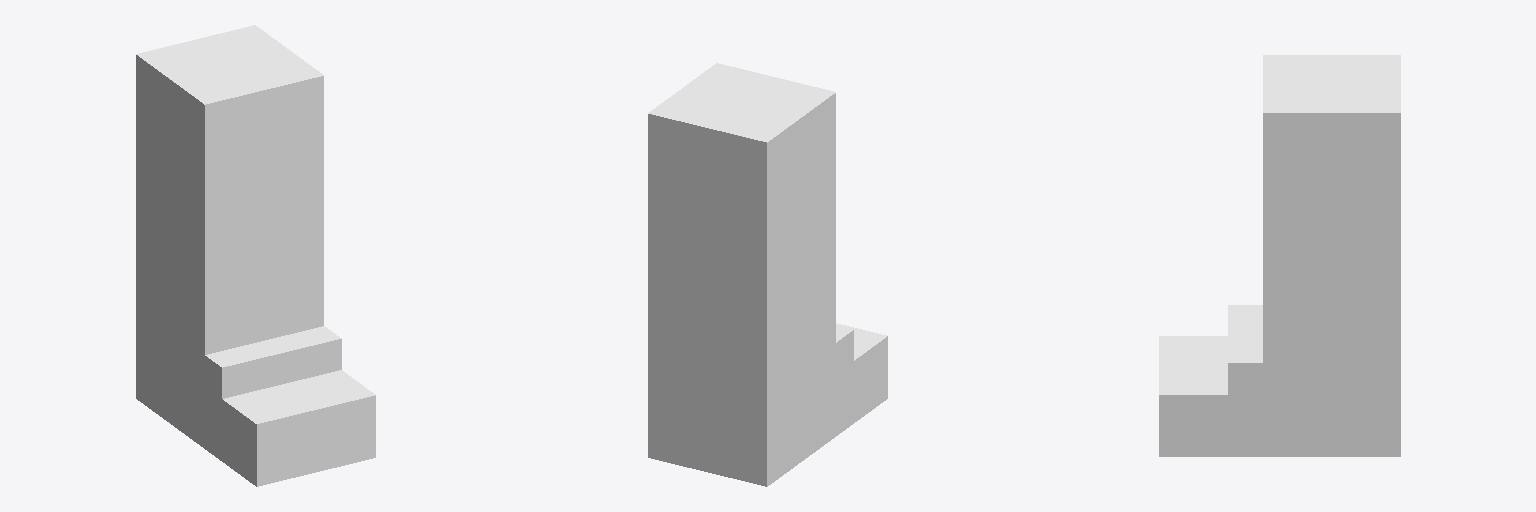
File: leg.obj
3 views of the same model, side by side, from view 1: azimuth 30°, elevation 25°; view 2: azimuth 150°, elevation 25°; view 3: azimuth 270°, elevation 25° (orthographic).
Bounding box in the file's own units: 4 × 11 × 7.